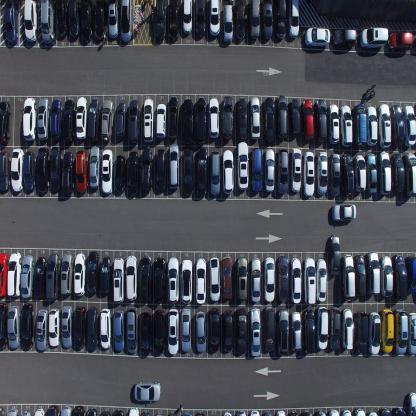car: (393, 254, 408, 302), (39, 0, 55, 45), (45, 252, 60, 300), (7, 251, 22, 299), (352, 103, 368, 147), (276, 307, 290, 356), (339, 104, 354, 148), (23, 0, 38, 44), (377, 150, 391, 196), (377, 102, 391, 148), (360, 26, 388, 49), (152, 256, 166, 302), (73, 252, 87, 298), (20, 254, 34, 300), (133, 380, 162, 402), (367, 250, 381, 295), (390, 152, 405, 194), (22, 96, 36, 141), (4, 0, 18, 45), (380, 308, 394, 353), (196, 146, 208, 198), (302, 150, 315, 198), (303, 257, 316, 305), (139, 310, 152, 358), (125, 254, 138, 302), (21, 303, 34, 351), (390, 103, 404, 147), (314, 98, 328, 142), (100, 98, 114, 142), (74, 149, 88, 193), (249, 307, 261, 357), (221, 149, 234, 195), (342, 253, 355, 299), (49, 146, 62, 192), (11, 147, 24, 193), (394, 308, 407, 354), (7, 304, 20, 350), (236, 142, 248, 191), (236, 306, 248, 355), (263, 95, 275, 144), (22, 150, 36, 192), (80, 0, 94, 42), (367, 312, 381, 354), (167, 255, 179, 304), (140, 254, 152, 303), (341, 152, 354, 197), (62, 99, 75, 144), (316, 305, 329, 350), (209, 149, 221, 197), (290, 146, 302, 194), (37, 146, 49, 194), (263, 305, 275, 353), (166, 307, 178, 355), (126, 306, 138, 354), (112, 308, 125, 352), (86, 307, 99, 351), (73, 305, 86, 349), (60, 305, 73, 349), (35, 308, 48, 352), (181, 99, 193, 146), (168, 143, 180, 190), (290, 257, 302, 304), (101, 147, 113, 194), (120, 0, 133, 43), (60, 253, 73, 296), (142, 98, 154, 144), (153, 308, 165, 354), (327, 102, 340, 144), (304, 26, 330, 47), (99, 308, 112, 350), (221, 96, 233, 141), (236, 256, 248, 301), (404, 152, 416, 197), (141, 147, 153, 192), (128, 99, 140, 144), (0, 100, 12, 145), (303, 309, 315, 354), (195, 97, 206, 145), (277, 146, 288, 194), (276, 94, 288, 138), (195, 257, 206, 305), (315, 258, 327, 302), (354, 253, 366, 297), (316, 150, 328, 194), (302, 98, 314, 142), (88, 98, 100, 142), (75, 96, 87, 140), (62, 150, 74, 194), (355, 310, 367, 354), (329, 306, 341, 350), (113, 257, 124, 305), (87, 250, 99, 294), (365, 106, 378, 146), (99, 255, 112, 295), (127, 150, 138, 197), (195, 310, 207, 353), (381, 254, 393, 297), (403, 104, 415, 147), (37, 97, 49, 140), (251, 146, 262, 192), (264, 256, 275, 302), (328, 234, 340, 276), (50, 99, 62, 141), (290, 310, 302, 352), (34, 256, 46, 298), (332, 28, 357, 48), (388, 31, 413, 51), (209, 307, 220, 352), (209, 256, 220, 301), (329, 152, 340, 197), (181, 259, 192, 304), (354, 153, 366, 194), (183, 147, 193, 196), (167, 96, 178, 140), (181, 308, 192, 352), (236, 97, 247, 141), (222, 256, 233, 300), (89, 145, 100, 189), (342, 307, 353, 351), (208, 0, 221, 37), (114, 154, 126, 194), (95, 0, 107, 40), (222, 3, 234, 43), (48, 307, 60, 347), (331, 202, 356, 221), (208, 97, 219, 140), (223, 309, 234, 352), (278, 254, 288, 301), (288, 97, 300, 136), (55, 0, 68, 36), (274, 0, 286, 39), (366, 153, 377, 195), (0, 150, 11, 192), (251, 256, 261, 302), (288, 0, 300, 38), (250, 0, 261, 41), (156, 148, 166, 193), (115, 101, 127, 138), (250, 96, 260, 140), (264, 148, 274, 192), (155, 0, 166, 40), (168, 0, 179, 40), (195, 0, 206, 40), (69, 0, 80, 39), (108, 0, 119, 39), (405, 256, 416, 294), (262, 0, 273, 38), (407, 311, 416, 355), (181, 0, 192, 35), (156, 102, 166, 140), (0, 252, 8, 299), (236, 0, 245, 41), (0, 301, 7, 352), (407, 392, 416, 415), (392, 406, 406, 416), (353, 406, 366, 416), (73, 405, 85, 415), (60, 405, 72, 415), (47, 405, 59, 415), (5, 407, 19, 415), (128, 405, 139, 415), (379, 407, 391, 415), (248, 408, 260, 416), (34, 407, 46, 415), (341, 408, 352, 416), (235, 408, 246, 416), (86, 408, 97, 416), (21, 408, 32, 416), (327, 408, 339, 415), (112, 408, 124, 415), (275, 408, 286, 415), (367, 409, 378, 415), (301, 409, 312, 415), (221, 410, 232, 416), (182, 410, 193, 416), (167, 410, 178, 416), (140, 410, 151, 416), (100, 409, 111, 415), (316, 409, 326, 415), (288, 410, 298, 416), (262, 409, 272, 415), (195, 410, 207, 415), (0, 404, 5, 415), (154, 412, 166, 415)
